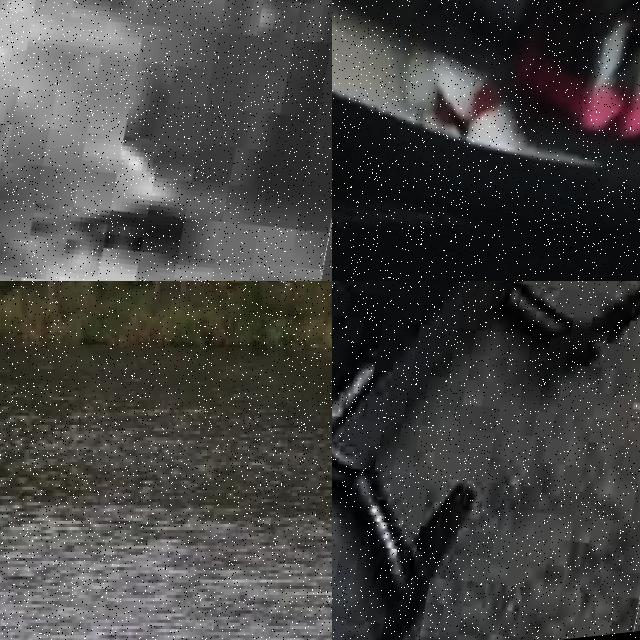drone: (332, 281, 640, 640), (0, 0, 332, 281), (332, 0, 640, 281)
